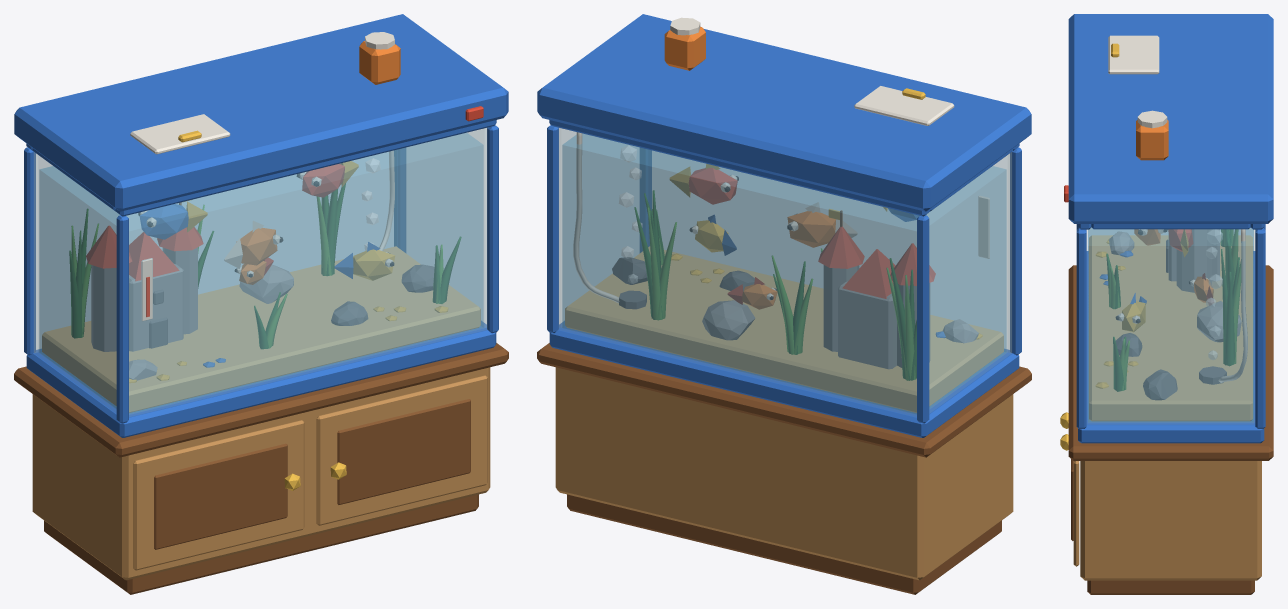
The model's file is aquarium-display-tank.glb.
3 views of the same model, side by side, from view 1: azimuth 30°, elevation 25°; view 2: azimuth 150°, elevation 25°; view 3: azimuth 270°, elevation 25° (orthographic). The views are drawn at different scales.
Parts seen in each view (by area): view 1: Water, Glass_Front, LampHood, Sand, Cabinet_Body, Glass_Left, Tank_Base, Door_L_Panel, Door_R_Panel, Cabinet_Top, Door_R, Door_L (+27 smaller); view 2: Water, Glass_Back, Cabinet_Body, LampHood, Sand, Glass_Left, Tank_Base, Cabinet_Top, Cabinet_Plinth, Castle_Keep, Tank_Post_LB, Tank_Post_RB (+23 smaller); view 3: LampHood, Glass_Right, Water, Cabinet_Body, Sand, Cabinet_Top, Tank_Base, Cabinet_Plinth, Tank_Post_RB, Tank_Post_RF, FeedHatch, Castle_Tower_R (+20 smaller).
Boxes of the visible parts, left/top/right/bottom form: Water: left=39, top=133, right=483, bottom=413; Glass_Front: left=127, top=128, right=487, bottom=416; LampHood: left=14, top=14, right=508, bottom=211; Sand: left=42, top=246, right=480, bottom=412; Cabinet_Body: left=32, top=367, right=490, bottom=580; Glass_Left: left=34, top=152, right=119, bottom=412; Tank_Base: left=26, top=321, right=496, bottom=437; Door_L_Panel: left=154, top=443, right=287, bottom=549; Door_R_Panel: left=337, top=399, right=470, bottom=504; Cabinet_Top: left=14, top=343, right=508, bottom=457; Door_R: left=316, top=375, right=487, bottom=525; Door_L: left=133, top=420, right=304, bottom=570; Water: left=562, top=134, right=1006, bottom=413; Glass_Back: left=558, top=128, right=918, bottom=416; Cabinet_Body: left=555, top=367, right=1013, bottom=580; LampHood: left=537, top=14, right=1031, bottom=211; Sand: left=565, top=246, right=1003, bottom=412; Glass_Left: left=926, top=152, right=1011, bottom=412; Tank_Base: left=549, top=321, right=1019, bottom=437; Cabinet_Top: left=537, top=343, right=1031, bottom=457; Cabinet_Plinth: left=567, top=494, right=1001, bottom=594; Castle_Keep: left=838, top=281, right=896, bottom=368; Tank_Post_LB: left=917, top=215, right=929, bottom=423; Tank_Post_RB: left=547, top=125, right=558, bottom=333; LampHood: left=1068, top=14, right=1273, bottom=223; Glass_Right: left=1088, top=228, right=1254, bottom=423; Water: left=1088, top=227, right=1253, bottom=421; Cabinet_Body: left=1080, top=461, right=1261, bottom=580; Sand: left=1089, top=235, right=1252, bottom=420; Cabinet_Top: left=1068, top=265, right=1273, bottom=460; Tank_Base: left=1078, top=251, right=1264, bottom=443; Cabinet_Plinth: left=1087, top=580, right=1254, bottom=594; Tank_Post_RB: left=1255, top=228, right=1265, bottom=428; Tank_Post_RF: left=1076, top=228, right=1086, bottom=428; FeedHatch: left=1108, top=35, right=1159, bottom=74; Castle_Tower_R: left=1177, top=229, right=1211, bottom=292.
Bounding box in the file's own units: 9.4 × 10.61 × 4.58.
